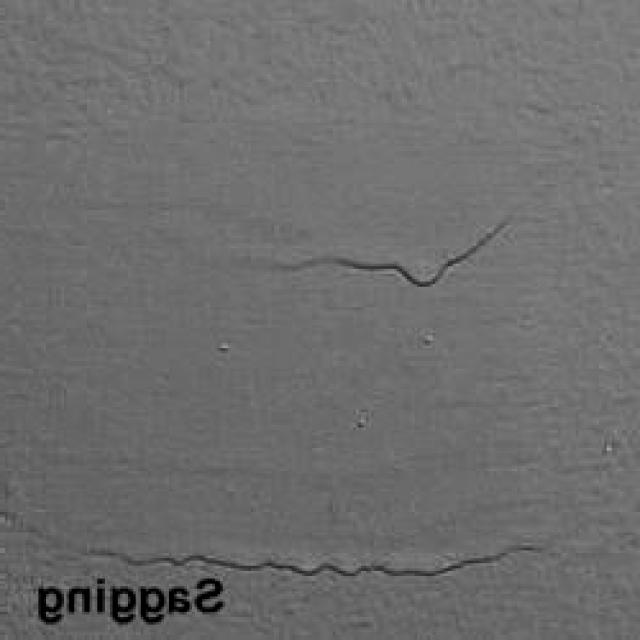paint drips: (164, 181, 536, 346), (42, 478, 572, 589)
